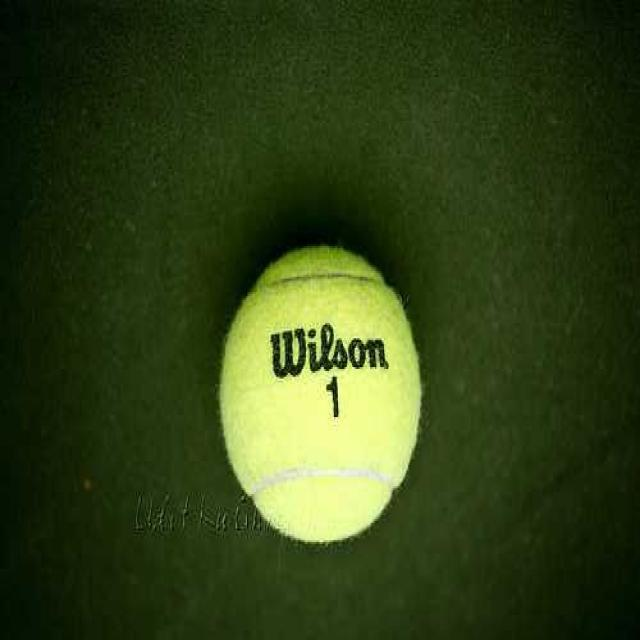Tennis_Ball: (219, 253, 422, 544)
